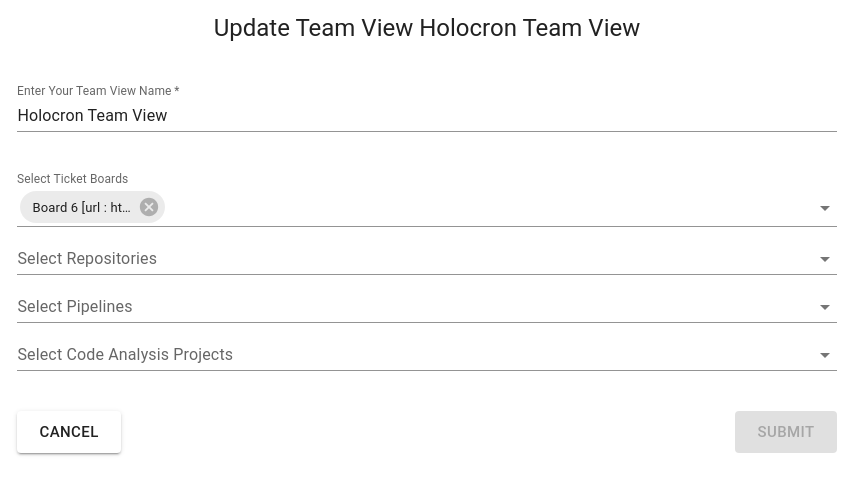
Test: Form validation › pipelines field › should allow submission if pipelines changes
Type "Repo 3 [ [url : https://gitlab.com/repo-3]" into the dropdown labelled "Select Pipelines" at (412, 306), box [17, 291, 807, 322]
Then press Arrowdown, Enter
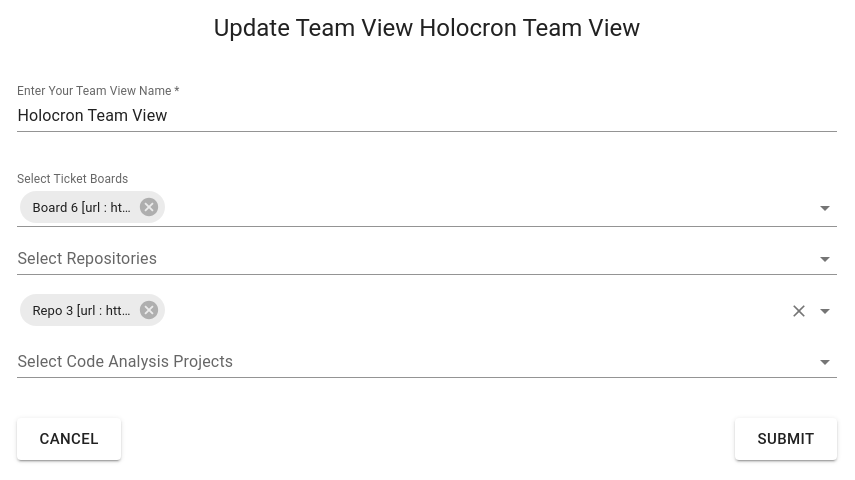
Now the button with aria-label "Submit Your Form" is enabled, box [735, 418, 837, 460]
